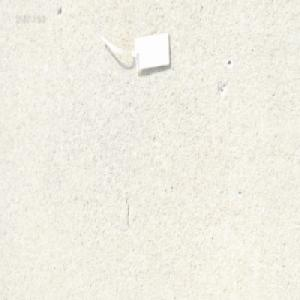LuggageTag: (99, 29, 172, 75)
